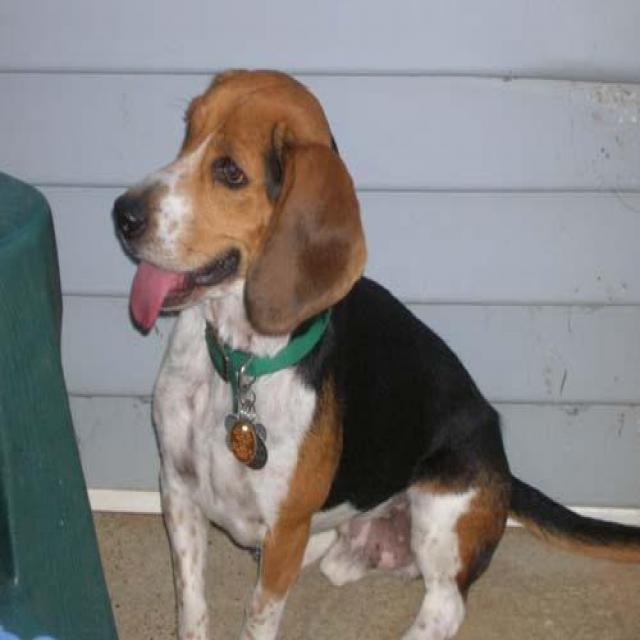dogs: (112, 65, 640, 640)
